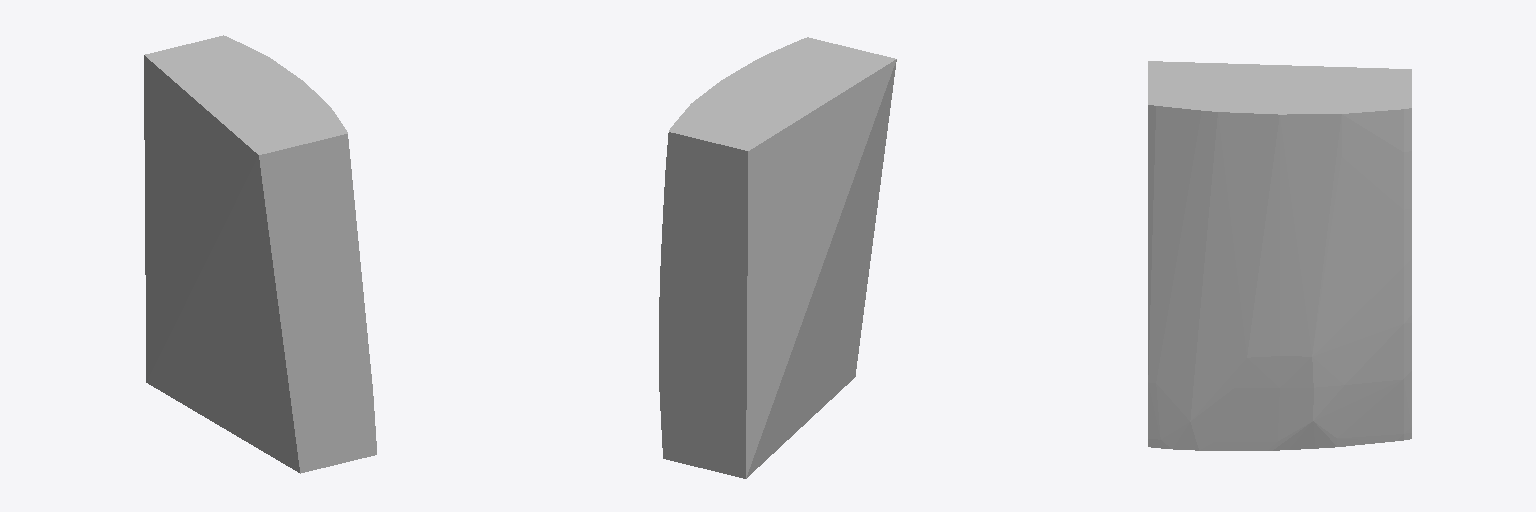
The model's file is phantom-elastrat_collision_151.obj.
3 views of the same model, side by side, from view 1: azimuth 30°, elevation 25°; view 2: azimuth 150°, elevation 25°; view 3: azimuth 270°, elevation 25° (orthographic).
Bounding box in the file's own units: 0.0027 × 0.0068 × 0.0049.